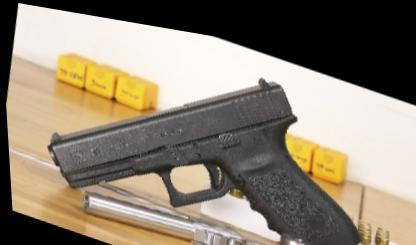pistol: (22, 2, 385, 243)
